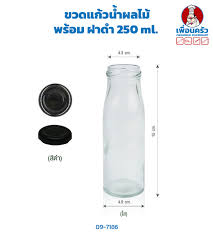glass_bottle: (98, 62, 153, 200)
